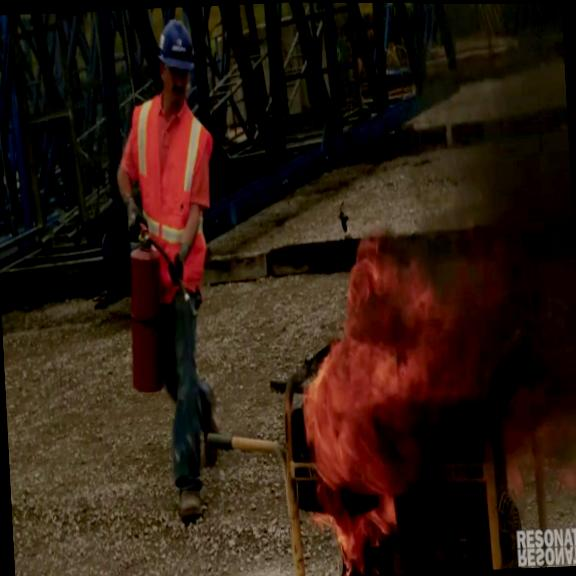safety_vest: (125, 91, 220, 291)
